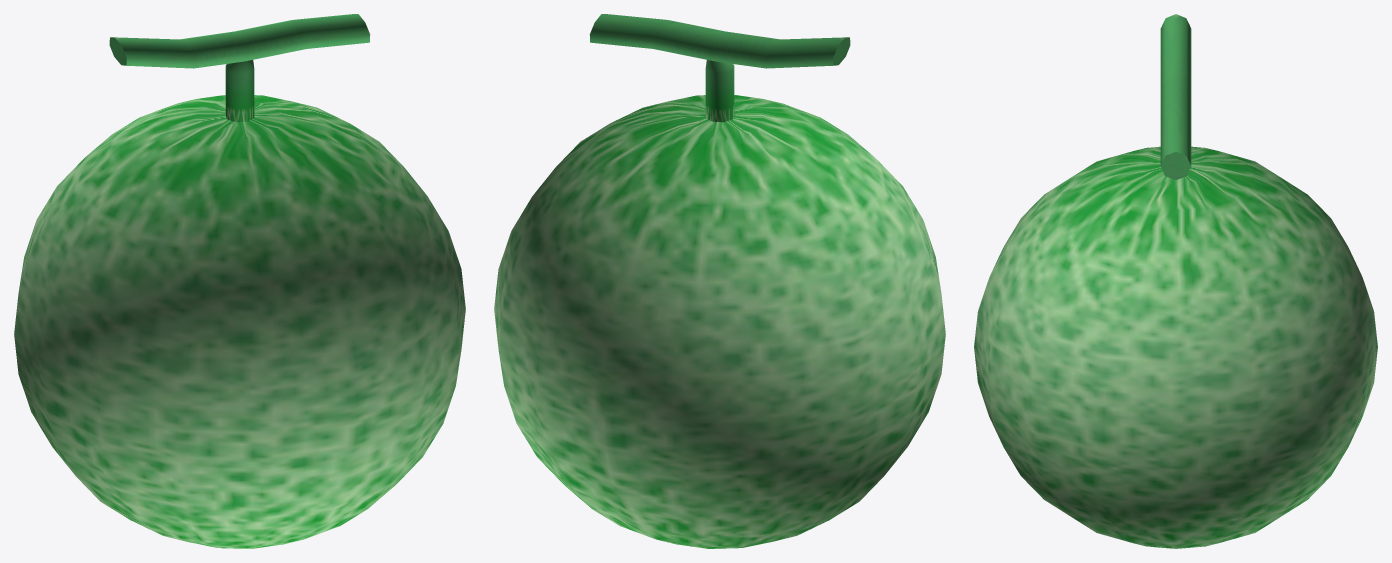
The model's file is slime1.ico.obj.
3 views of the same model, side by side, from view 1: azimuth 30°, elevation 25°; view 2: azimuth 150°, elevation 25°; view 3: azimuth 270°, elevation 25° (orthographic). The views are drawn at different scales.
Size of the model in its own units: 3.8 by 4.8 by 3.8.
Materials: 1 (1 with a texture image).
